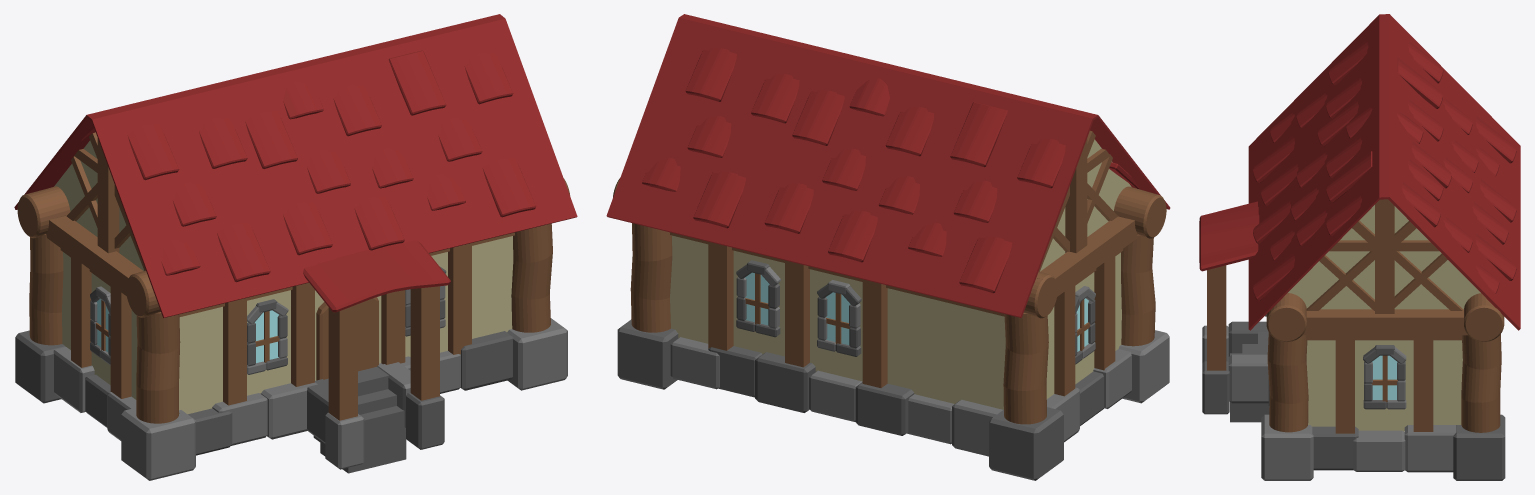
File: test_house1.fbx
3 renders of one model, left to right at view 1: azimuth 30°, elevation 25°; view 2: azimuth 150°, elevation 25°; view 3: azimuth 270°, elevation 25°, orthographic. The views are drawn at different scales.
Parts seen in each view (by area): view 1: Plane.006, Cube.000, Plane.061, Cylinder.003, Cube.034, Cylinder.000, Cube.046, Cube.057, Cylinder.002, Cube.052, Cube.050, Cube.022 (+42 smaller); view 2: Plane.006, Cube.000, Cylinder.002, Cube.042, Cylinder.001, Cube.057, Cylinder.003, Cube.026, Cube.056, Cube.018, Cube.005, Cube.039 (+36 smaller); view 3: Plane.006, Cube.000, Cube.055, Cube.053, Cube.054, Cylinder.001, Cylinder.000, Plane.061, Cube.022, Cube.026, Cube.025, Cube.024 (+43 smaller).
Part boxes in pixels (<box>): Plane.006: <box>14,14,577,318</box>; Cube.000: <box>62,236,513,414</box>; Plane.061: <box>303,240,450,312</box>; Cylinder.003: <box>136,312,180,423</box>; Cube.034: <box>121,408,195,480</box>; Cylinder.000: <box>511,223,552,332</box>; Cube.046: <box>313,367,406,473</box>; Cube.057: <box>66,132,145,270</box>; Cylinder.002: <box>29,234,63,345</box>; Cube.052: <box>410,286,439,400</box>; Cube.050: <box>328,304,357,420</box>; Cube.022: <box>507,318,567,390</box>; Plane.006: <box>606,14,1170,317</box>; Cube.000: <box>670,235,1121,409</box>; Cylinder.002: <box>1003,313,1048,424</box>; Cube.042: <box>989,407,1063,480</box>; Cylinder.001: <box>630,223,672,332</box>; Cube.057: <box>1039,130,1117,271</box>; Cylinder.003: <box>1121,234,1155,346</box>; Cube.026: <box>617,319,678,389</box>; Cube.056: <box>1040,216,1137,296</box>; Cube.018: <box>708,242,733,350</box>; Cube.005: <box>862,279,887,387</box>; Cube.039: <box>755,352,815,412</box>; Plane.006: <box>1248,14,1520,330</box>; Cube.000: <box>1306,340,1462,431</box>; Cube.055: <box>1306,199,1462,313</box>; Cube.053: <box>1288,205,1480,309</box>; Cube.054: <box>1303,309,1467,335</box>; Cylinder.001: <box>1461,334,1501,432</box>; Cylinder.000: <box>1267,332,1308,432</box>; Plane.061: <box>1199,201,1259,271</box>; Cube.022: <box>1261,414,1313,480</box>; Cube.026: <box>1453,414,1505,480</box>; Cube.025: <box>1404,425,1456,472</box>; Cube.024: <box>1353,430,1405,471</box>.
Size of the model in its own units: 1142 by 863 by 822.
